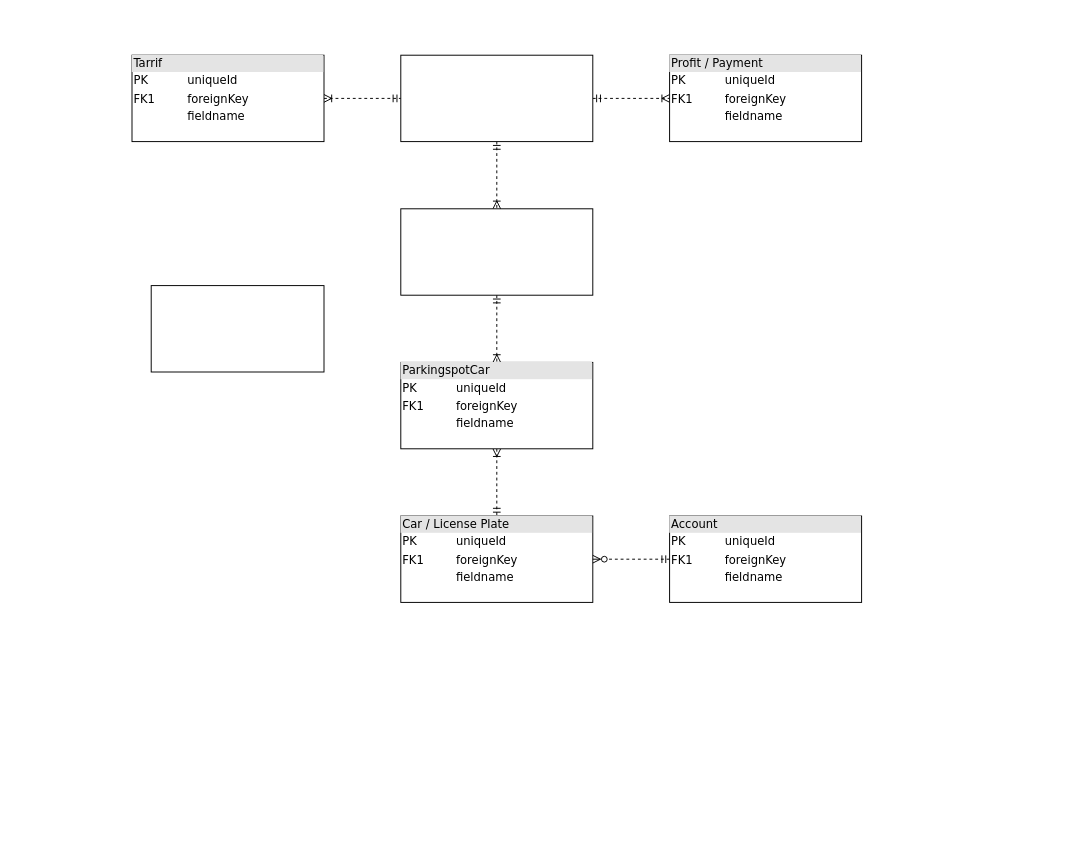
The diagram is 1089 pixels wide and 849 high, and some of its shapes have lost their labels. Here are the shapes that lost their labels. From the top down, the centre of each, then its label:
At point 496,98: "Garage PK uniqueId FK1 foreignKey fieldname".
At point 496,251: "Parkingspot PK uniqueId FK1 foreignKey fieldname".
At point 237,328: "VIPParkingSpot (for later) PK uniqueId FK1 foreignKey fieldname".
